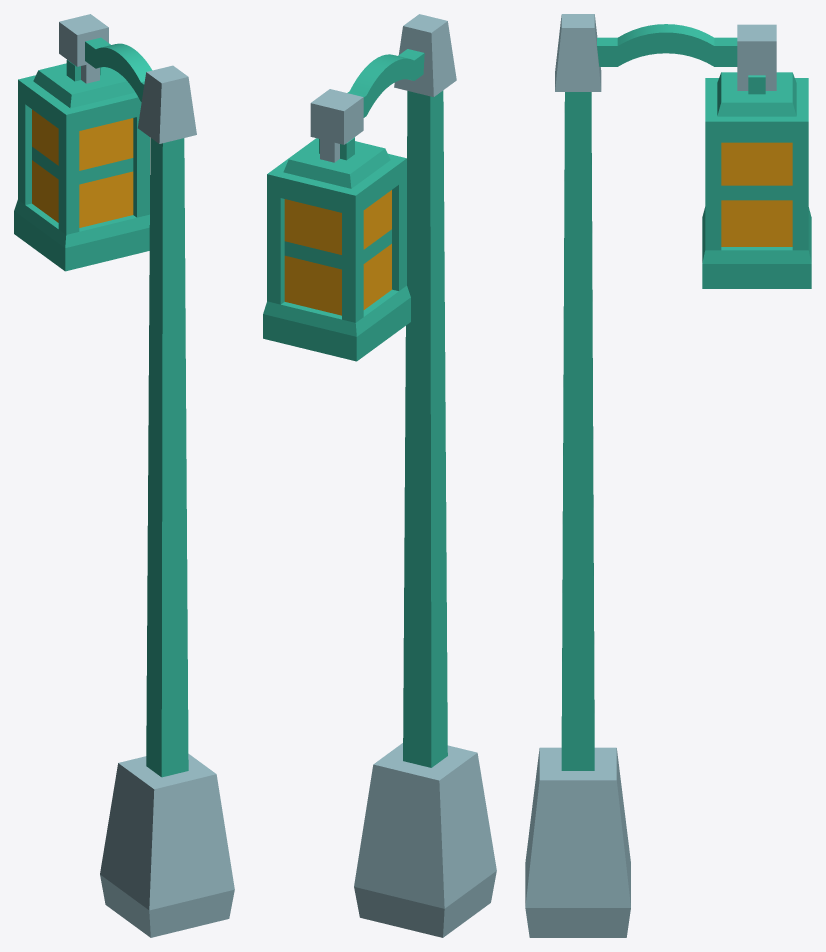
Rendered from d_kenney_reverbere.glb.
The picture shows the model from 3 angles, left to right: view 1: azimuth 30°, elevation 25°; view 2: azimuth 150°, elevation 25°; view 3: azimuth 270°, elevation 25°; orthographic projection. The views are drawn at different scales.
Parts seen in each view (by area): view 1: d_kenney_reverbere; view 2: d_kenney_reverbere; view 3: d_kenney_reverbere.
Part boxes in pixels (x1=…): d_kenney_reverbere: x1=14, y1=14, x2=234, y2=937; d_kenney_reverbere: x1=263, y1=14, x2=496, y2=937; d_kenney_reverbere: x1=525, y1=14, x2=811, y2=937.
Bounding box in the file's own units: 0.1458 × 1.32 × 0.3817.
Materials: 1 (1 with a texture image).
